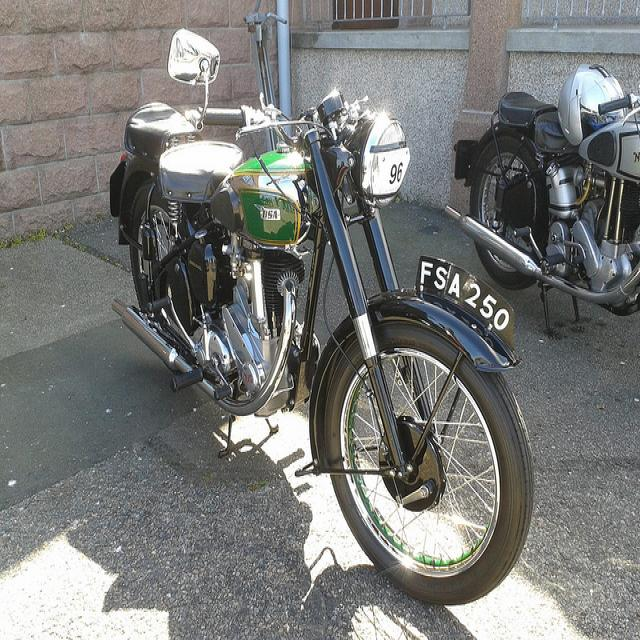motor: (109, 29, 532, 608), (445, 92, 640, 334)
